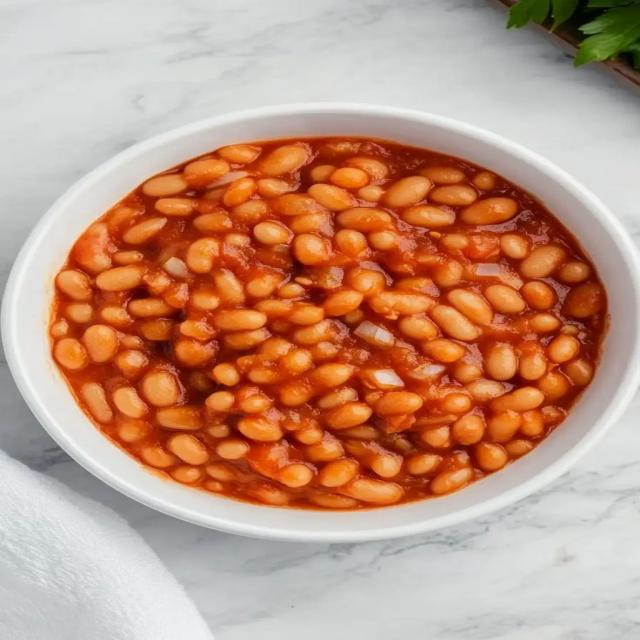beans: (49, 139, 606, 509), (73, 223, 111, 273), (429, 305, 479, 341), (382, 176, 433, 208), (368, 292, 433, 317), (447, 289, 493, 324), (343, 478, 402, 504), (520, 245, 566, 278), (460, 198, 518, 224), (260, 145, 308, 176), (336, 207, 392, 232), (140, 371, 179, 406), (82, 325, 118, 362), (566, 283, 604, 318), (492, 387, 545, 412), (324, 402, 372, 429), (81, 383, 113, 423), (183, 159, 230, 186), (167, 434, 209, 464), (429, 467, 474, 495), (274, 194, 324, 219), (96, 265, 143, 291), (401, 205, 454, 228), (485, 285, 526, 314), (485, 344, 518, 380), (186, 238, 219, 274), (374, 392, 423, 416), (123, 217, 166, 244), (156, 405, 202, 430), (214, 309, 266, 331), (305, 433, 344, 462), (238, 416, 283, 441), (293, 234, 329, 265), (112, 387, 148, 418), (56, 270, 92, 301), (309, 363, 355, 387), (319, 459, 359, 486), (174, 339, 214, 366), (142, 174, 188, 197), (487, 411, 521, 442), (347, 269, 386, 296), (520, 281, 556, 310), (423, 338, 466, 362), (398, 315, 439, 340), (452, 414, 485, 445), (214, 271, 245, 304), (248, 483, 292, 506), (224, 328, 270, 350), (429, 185, 477, 206), (323, 290, 363, 315), (222, 177, 256, 206), (519, 344, 546, 380), (346, 157, 388, 180), (538, 370, 570, 400), (114, 350, 148, 378), (334, 229, 367, 257), (475, 443, 508, 471), (289, 211, 329, 234), (253, 221, 291, 245), (230, 200, 269, 223), (547, 335, 579, 363), (316, 388, 358, 409), (467, 379, 505, 402), (128, 298, 174, 317), (329, 167, 370, 188), (193, 213, 233, 234), (278, 463, 313, 487), (246, 273, 281, 297), (562, 359, 593, 386), (140, 445, 176, 468), (369, 453, 402, 478), (287, 303, 324, 325), (280, 349, 313, 373), (218, 145, 259, 164), (117, 417, 148, 442), (420, 167, 465, 184), (434, 260, 463, 286), (154, 198, 195, 216), (215, 438, 250, 459), (407, 454, 442, 475), (140, 319, 173, 341), (500, 234, 529, 259), (254, 300, 292, 319), (558, 262, 590, 284), (256, 178, 293, 197), (520, 410, 545, 438), (180, 320, 215, 340), (440, 392, 471, 413), (212, 363, 240, 386), (190, 288, 219, 310), (452, 363, 482, 384), (239, 394, 272, 413), (205, 391, 234, 412), (341, 425, 381, 440), (169, 465, 202, 483), (529, 314, 560, 333), (368, 231, 399, 250), (65, 303, 93, 324), (294, 426, 324, 444), (503, 440, 533, 458), (206, 463, 236, 481), (440, 234, 469, 251), (309, 165, 335, 183), (357, 185, 384, 202), (473, 172, 496, 191), (113, 251, 144, 265), (278, 283, 305, 299), (50, 319, 69, 339), (206, 425, 230, 438), (120, 335, 143, 348)
